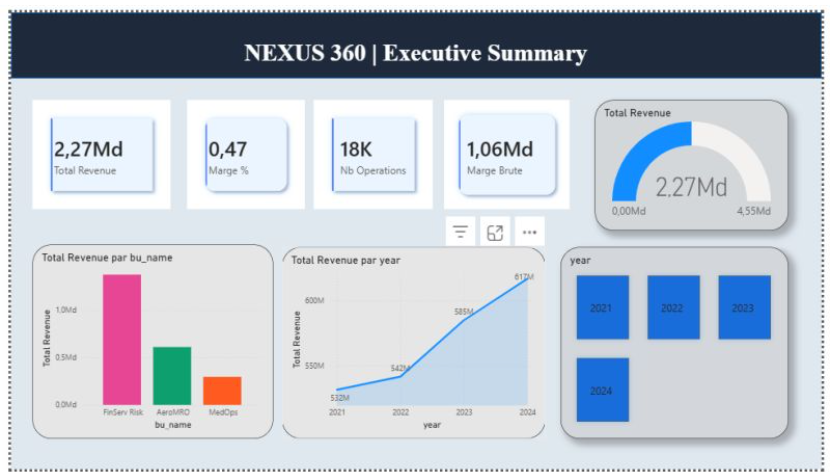

The page's visual inventory and layout, read from the dashboard file:
{"tool":"powerbi","page":{"name":"Executive Summary","canvas":[1280,720],"ordinal":0},"visuals":[{"type":"shape","box":[0,0,1280,104],"z":0},{"type":"textbox","box":[317.5,0,642.5,120],"z":1000},{"type":"cardVisual","fields":{"Data":["_Mesures.Total Revenue"]},"box":[34,138,218,172],"z":2000},{"type":"cardVisual","fields":{"Data":["_Mesures.Marge %"]},"box":[278,138,186,172],"z":3000},{"type":"cardVisual","fields":{"Data":["_Mesures.Nb Operations"]},"box":[478,138,188,172],"z":4000},{"type":"cardVisual","fields":{"Data":["_Mesures.Marge Brute"]},"box":[684,138,198,172],"z":5000},{"type":"clusteredColumnChart","fields":{"Category":["Dim_Entity.bu_name"],"Y":["_Mesures.Total Revenue"]},"box":[34,366,380,306],"z":6000},{"type":"lineChart","fields":{"Category":["Dim_Date.year"],"Y":["_Mesures.Total Revenue"]},"box":[428,370,416,302],"z":7000},{"type":"advancedSlicerVisual","fields":{"Values":["Dim_Date.year"]},"box":[868,370,360,302],"z":8000},{"type":"gauge","fields":{"Y":["_Mesures.Total Revenue"]},"box":[922,138,306,206],"z":9000}]}

Visuals, with their boxes in screenshot pixels (x1, y1, x2, y2), scaled from the page's 1280x720 canvas onto the 831x472 screenshot:
shape: box(0, 0, 830, 68)
textbox: box(206, 0, 623, 79)
cardVisual - _Mesures.Total Revenue: box(22, 90, 164, 203)
cardVisual - _Mesures.Marge %: box(180, 90, 301, 203)
cardVisual - _Mesures.Nb Operations: box(310, 90, 432, 203)
cardVisual - _Mesures.Marge Brute: box(444, 90, 573, 203)
clusteredColumnChart - Dim_Entity.bu_name x _Mesures.Total Revenue: box(22, 240, 269, 441)
lineChart - Dim_Date.year x _Mesures.Total Revenue: box(278, 243, 548, 441)
advancedSlicerVisual - Dim_Date.year: box(564, 243, 797, 441)
gauge - _Mesures.Total Revenue: box(599, 90, 797, 226)
